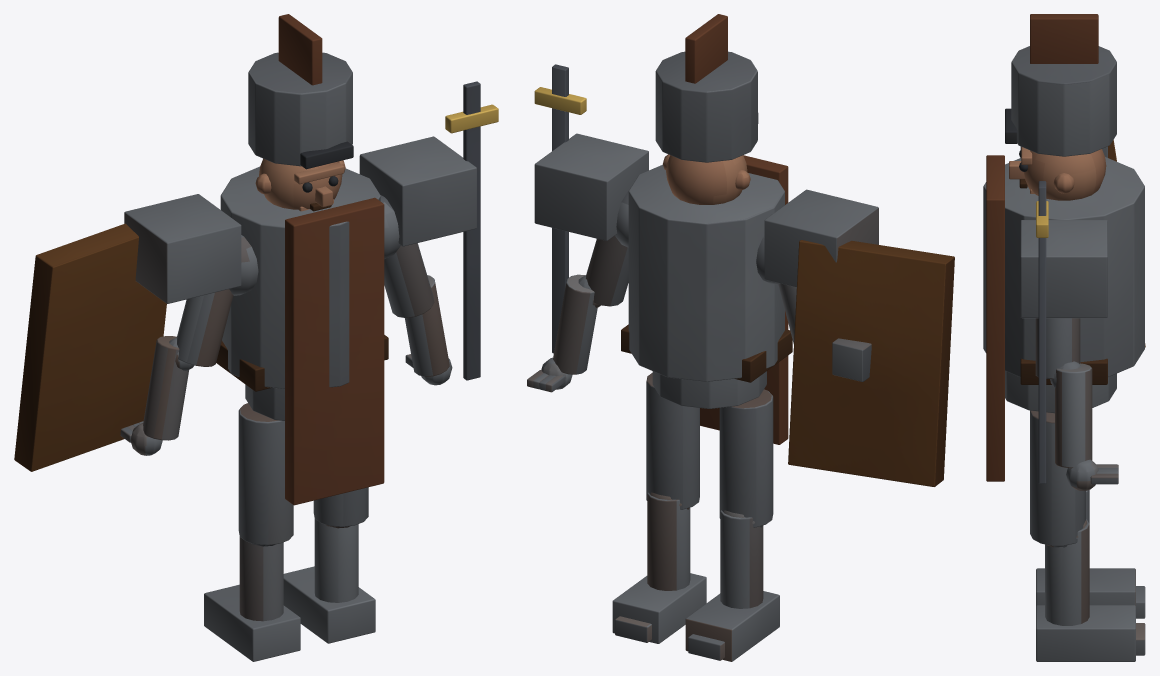
Rendered from unit_royal_guard.fbx.
The picture shows the model from 3 angles, left to right: view 1: azimuth 30°, elevation 25°; view 2: azimuth 150°, elevation 25°; view 3: azimuth 270°, elevation 25°; orthographic projection. The views are drawn at different scales.
Parts seen in each view (by area): view 1: unit_royal_guard; view 2: unit_royal_guard; view 3: unit_royal_guard.
Boxes of the visible parts, left/top/right/bottom form: unit_royal_guard: left=14, top=14, right=498, bottom=661; unit_royal_guard: left=527, top=14, right=954, bottom=661; unit_royal_guard: left=983, top=14, right=1145, bottom=661.
Size of the model in its own units: 1.66 by 2.18 by 0.5204.
